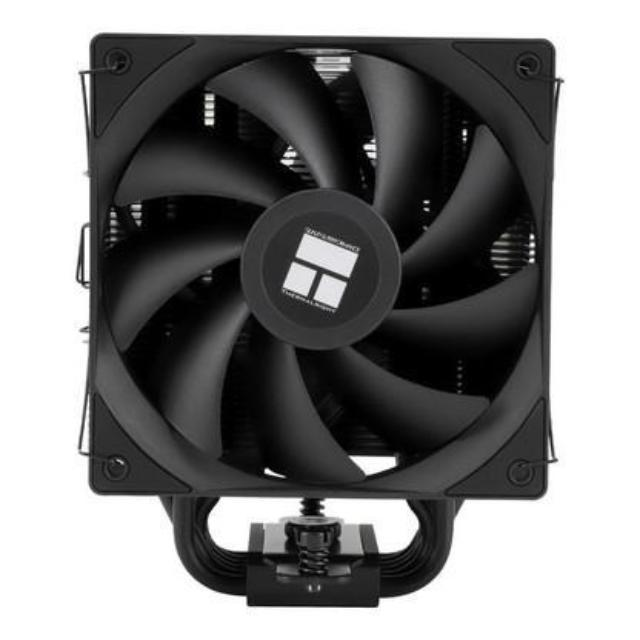CPU_Fan: (89, 29, 551, 608)
